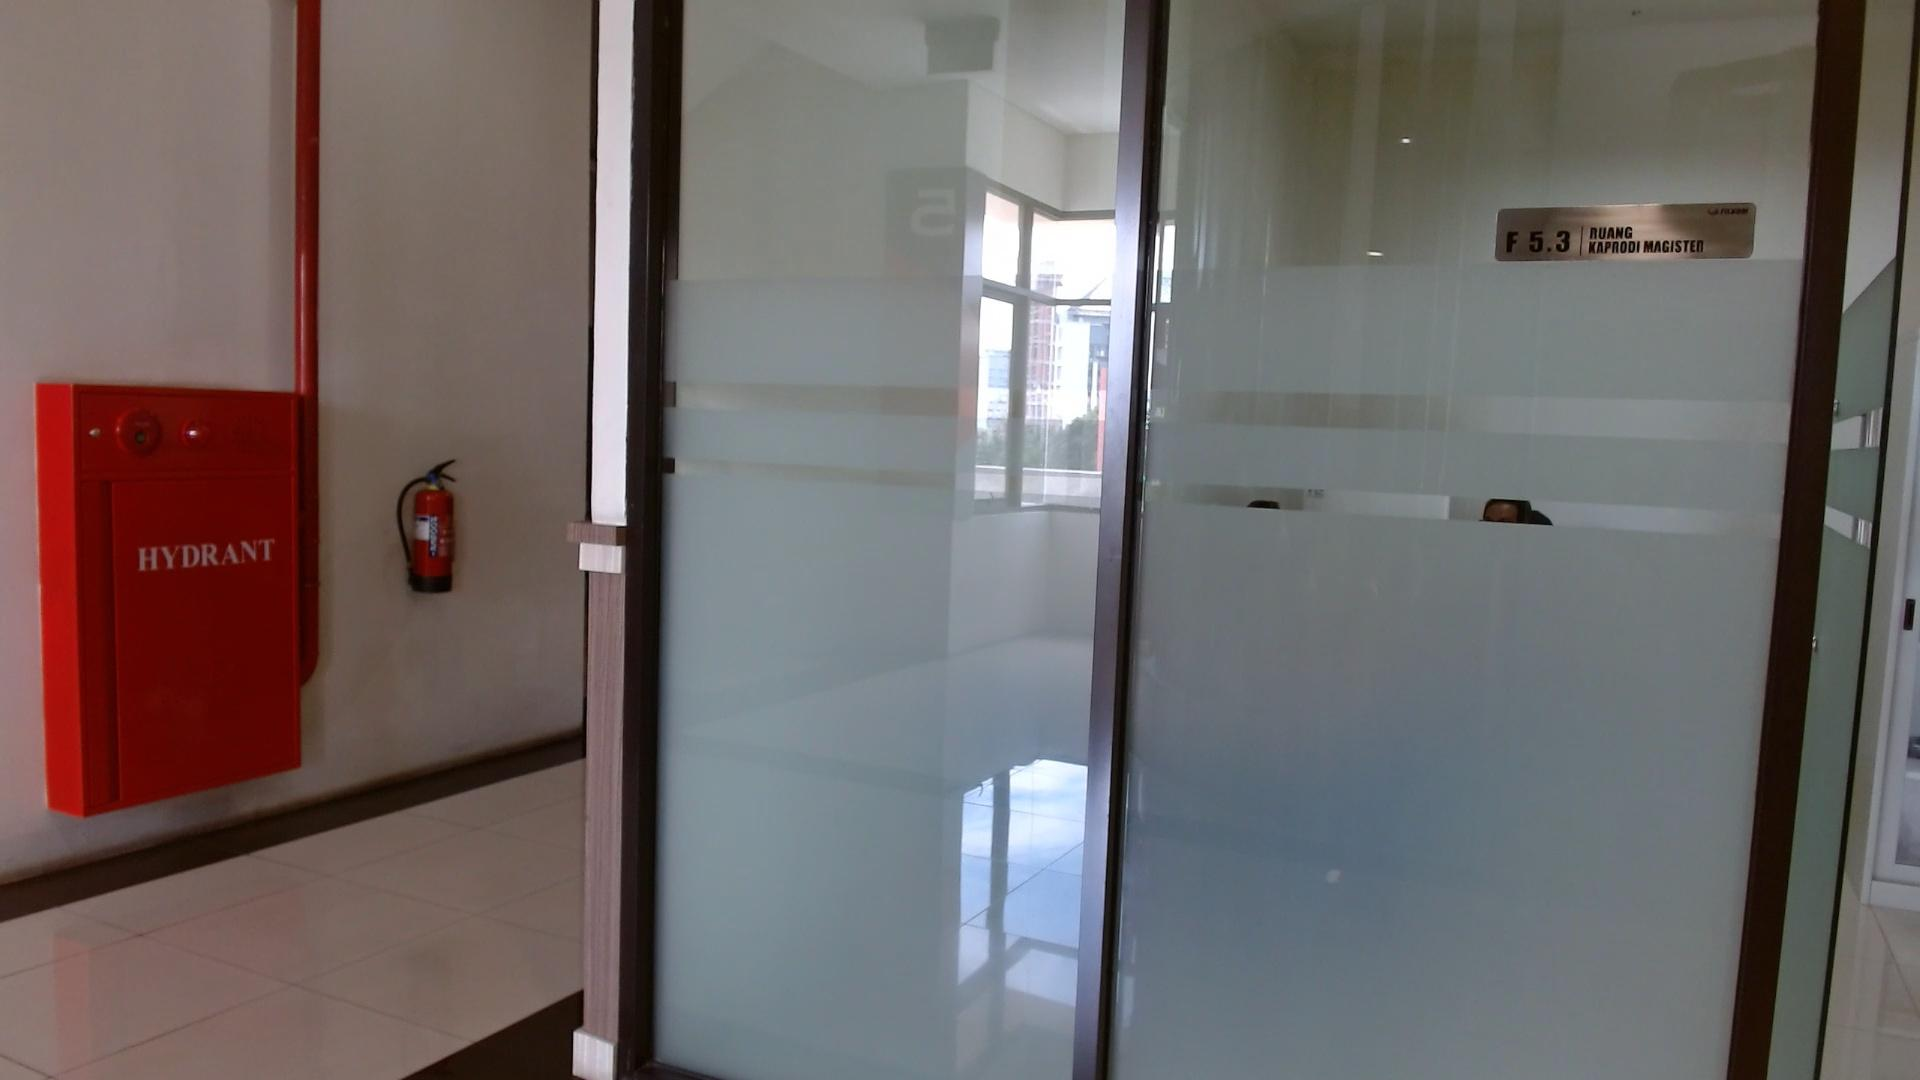plate: (1495, 203, 1758, 264)
